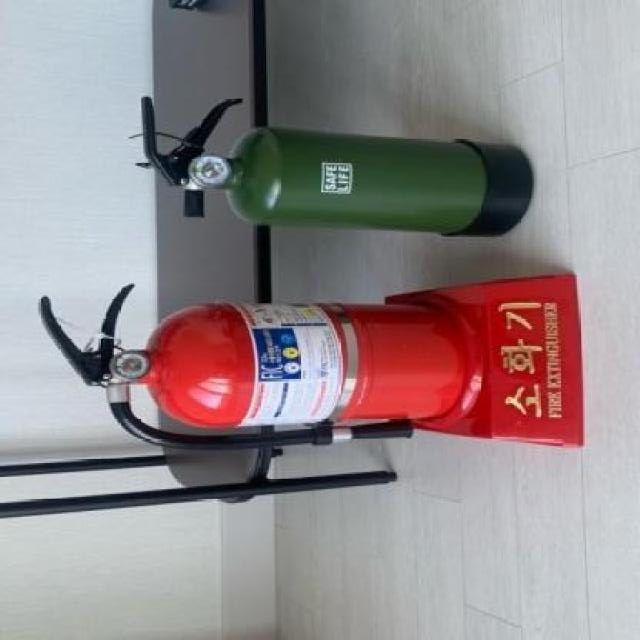fire extinguisher: (38, 283, 465, 451), (129, 95, 533, 237)
